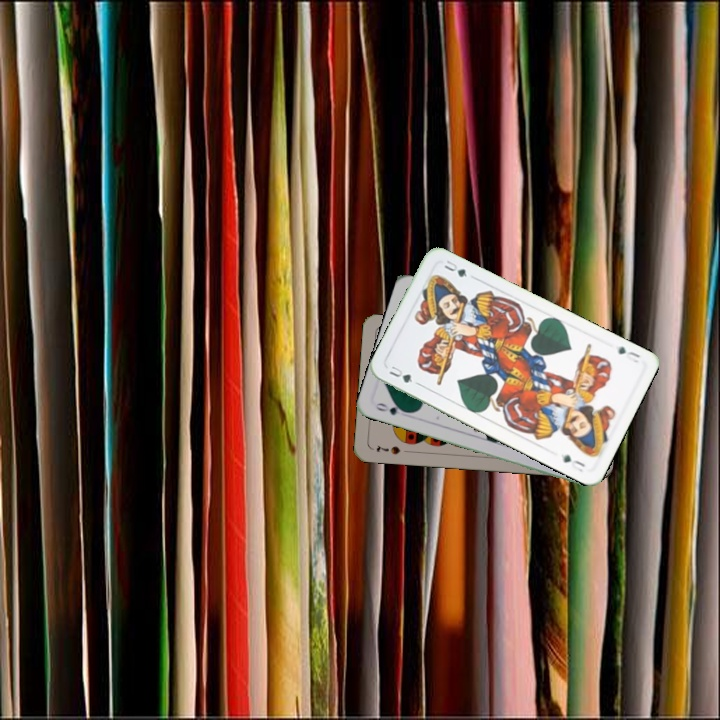GO: (372, 398, 411, 418)
GU: (385, 362, 415, 386), (614, 342, 643, 365)
S7: (372, 441, 403, 457)
